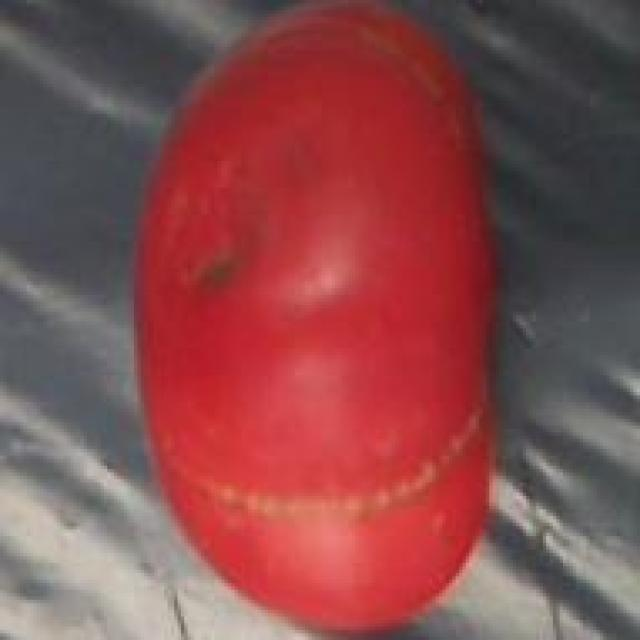overripe tomato: (97, 0, 530, 640)
